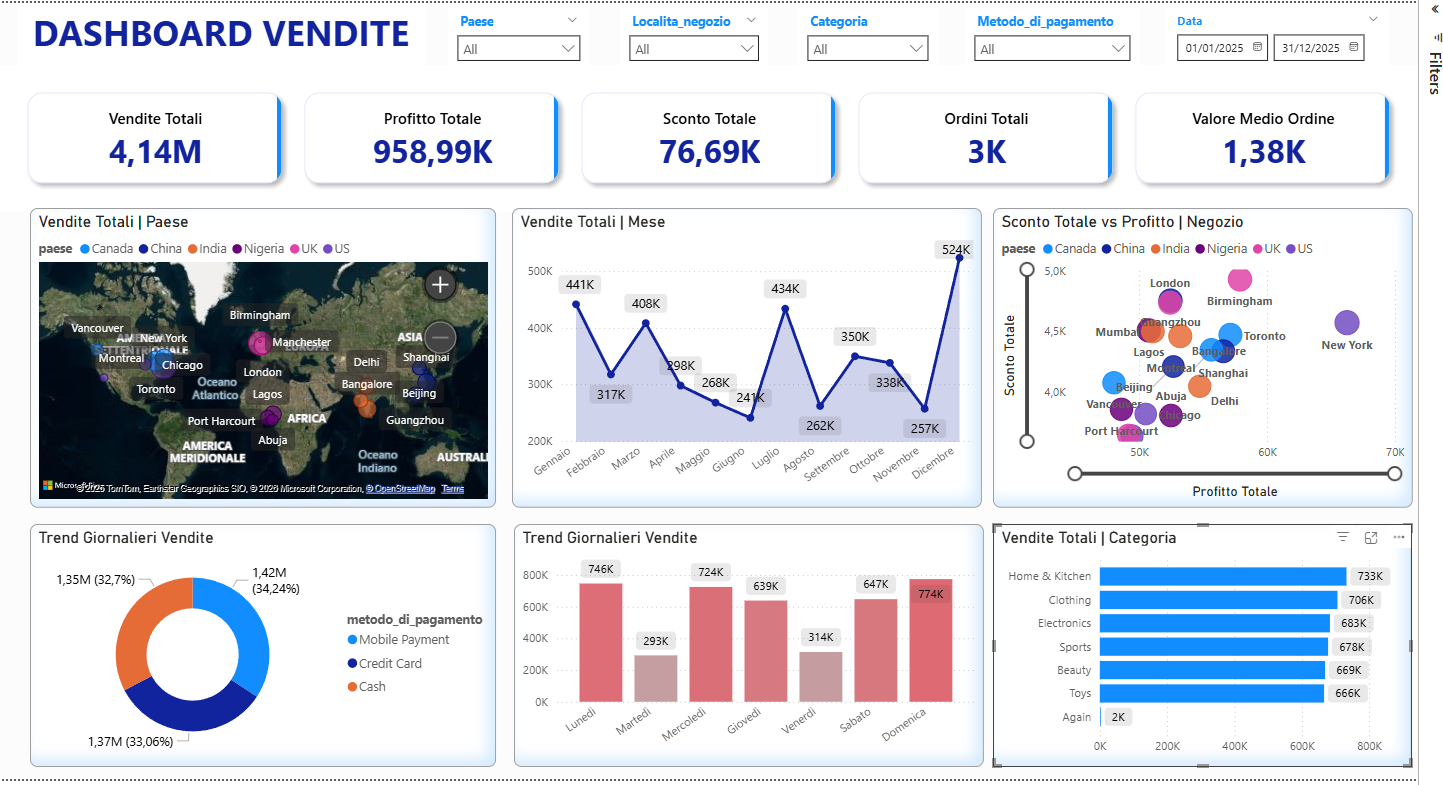

This screenshot's page, from the dashboard's own definition file:
{"tool":"powerbi","page":{"name":"Page 1","canvas":[1500,820],"ordinal":0},"visuals":[{"type":"cardVisual","fields":{"Data":["_Misure.Vendite Totali","_Misure.Profitto Totale","_Misure.Sconto Totale","_Misure.Ordini Totali","_Misure.Valore Medio Ordine"]},"box":[0,66.1,1499.5,154.9],"z":0},{"type":"textbox","box":[17.6,0,431.7,66.1],"z":1000},{"type":"slicer","fields":{"Values":["public dati_vendite.paese"]},"box":[474,5.2,149.7,60.9],"z":2000},{"type":"slicer","fields":{"Values":["public dati_vendite.localita_negozio"]},"box":[655.8,5.2,157,60.9],"z":3000},{"type":"slicer","fields":{"Values":["public dati_vendite.categoria"]},"box":[843.8,5.2,147.7,60.9],"z":4000},{"type":"slicer","fields":{"Values":["public dati_vendite.metodo_di_pagamento"]},"box":[1020.4,5.2,184.9,60.9],"z":5000},{"type":"slicer","fields":{"Values":["public dati_vendite.data"]},"box":[1232.1,5.2,237.5,66.1],"z":6000},{"type":"map","title":"Vendite Totali |  Paese","fields":{"Category":["public dati_vendite.localita_negozio"],"Size":["_Misure.Vendite Totali"],"Series":["public dati_vendite.paese"]},"box":[31.7,216.9,492.9,317.3],"z":7000},{"type":"areaChart","title":"Vendite Totali |  Mese","fields":{"Category":["public dati_vendite.mese"],"Y":["_Misure.Vendite Totali"]},"box":[541.6,216.9,497.2,317.3],"z":7001},{"type":"clusteredColumnChart","title":"Trend Giornalieri Vendite","fields":{"Category":["public dati_vendite.nome giorno"],"Y":["_Misure.Vendite Totali"]},"box":[543.7,551.1,497.2,257.1],"z":7002},{"type":"donutChart","title":"Trend Giornalieri Vendite","fields":{"Y":["_Misure.Vendite Totali"],"Category":["public dati_vendite.metodo_di_pagamento"]},"box":[31.7,551.1,492.9,257.1],"z":7003},{"type":"scatterChart","title":"Sconto Totale vs Profitto | Negozio","fields":{"Series":["public dati_vendite.paese"],"Y":["_Misure.Sconto Totale"],"Category":["public dati_vendite.localita_negozio"],"Size":["_Misure.Ordini Totali"],"X":["_Misure.Profitto Totale"]},"box":[1050.4,216.9,444.3,317.3],"z":7004},{"type":"clusteredBarChart","title":"Vendite Totali | Categoria","fields":{"Y":["_Misure.Vendite Totali"],"Category":["public dati_vendite.categoria"]},"box":[1050.4,551.1,443.2,257.1],"z":7005}]}

Visuals, with their boxes in screenshot pixels (x1, y1, x2, y2), scaled from the page's 1500x820 canvas onto the 1443x785 screenshot:
cardVisual - _Misure.Vendite Totali x _Misure.Profitto Totale: region(0, 63, 1442, 212)
textbox: region(17, 0, 432, 63)
slicer - public dati_vendite.paese: region(456, 5, 600, 63)
slicer - public dati_vendite.localita_negozio: region(631, 5, 782, 63)
slicer - public dati_vendite.categoria: region(812, 5, 954, 63)
slicer - public dati_vendite.metodo_di_pagamento: region(982, 5, 1159, 63)
slicer - public dati_vendite.data: region(1185, 5, 1414, 68)
"Vendite Totali |  Paese" map: region(30, 208, 505, 511)
"Vendite Totali |  Mese" areaChart: region(521, 208, 999, 511)
"Trend Giornalieri Vendite" clusteredColumnChart: region(523, 528, 1001, 774)
"Trend Giornalieri Vendite" donutChart: region(30, 528, 505, 774)
"Sconto Totale vs Profitto | Negozio" scatterChart: region(1010, 208, 1438, 511)
"Vendite Totali | Categoria" clusteredBarChart: region(1010, 528, 1437, 774)
